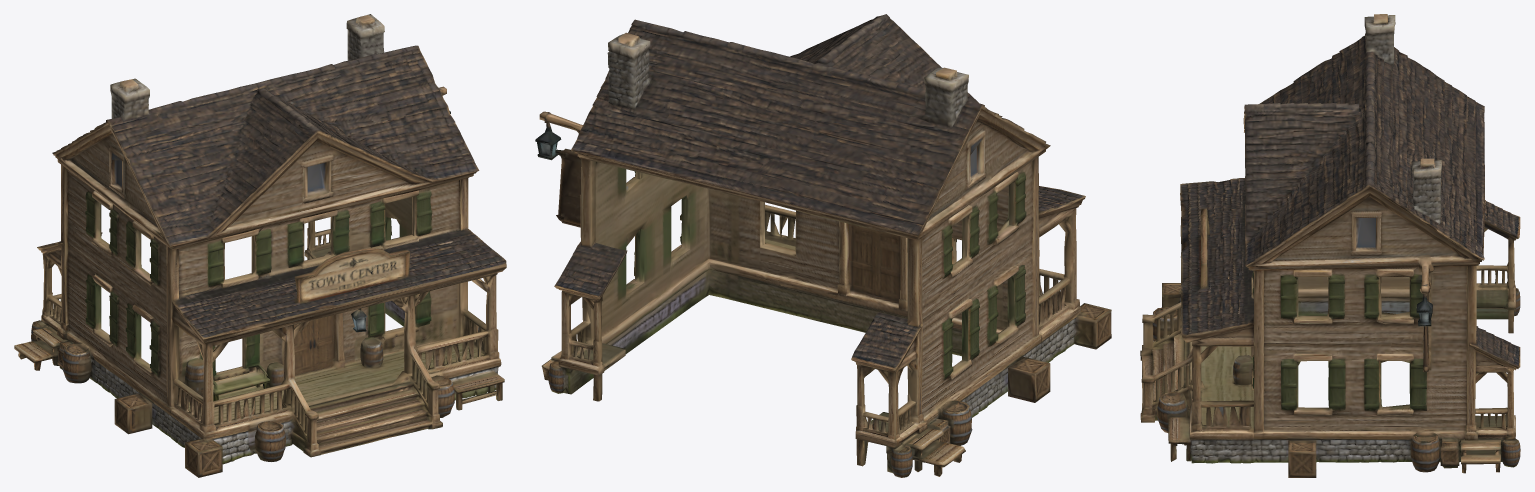
Rendered from tripo_convert_bd63034a-224d-480d-8639-bfce1980cb54.fbx.
3 views of the same model, side by side, from view 1: azimuth 30°, elevation 25°; view 2: azimuth 150°, elevation 25°; view 3: azimuth 270°, elevation 25° (orthographic). The views are drawn at different scales.
Visible parts, largest first — view 1: tripo_node_bd63034a; view 2: tripo_node_bd63034a; view 3: tripo_node_bd63034a.
Boxes of the visible parts, left/top/right/bottom form: tripo_node_bd63034a: left=14, top=14, right=506, bottom=477; tripo_node_bd63034a: left=535, top=14, right=1111, bottom=477; tripo_node_bd63034a: left=1140, top=14, right=1520, bottom=477.
Size of the model in its own units: 0.9792 by 0.7268 by 0.8024.
Materials: 1 (1 with a texture image).
